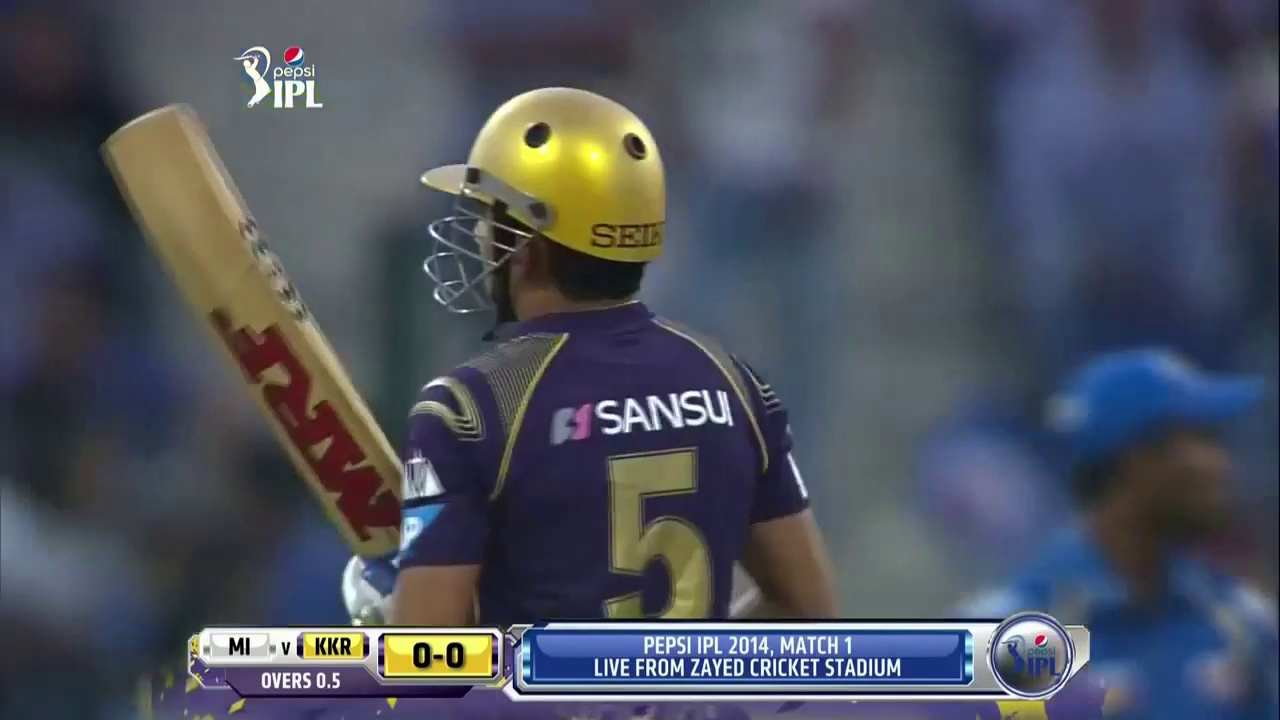bat: (98, 102, 403, 459)
